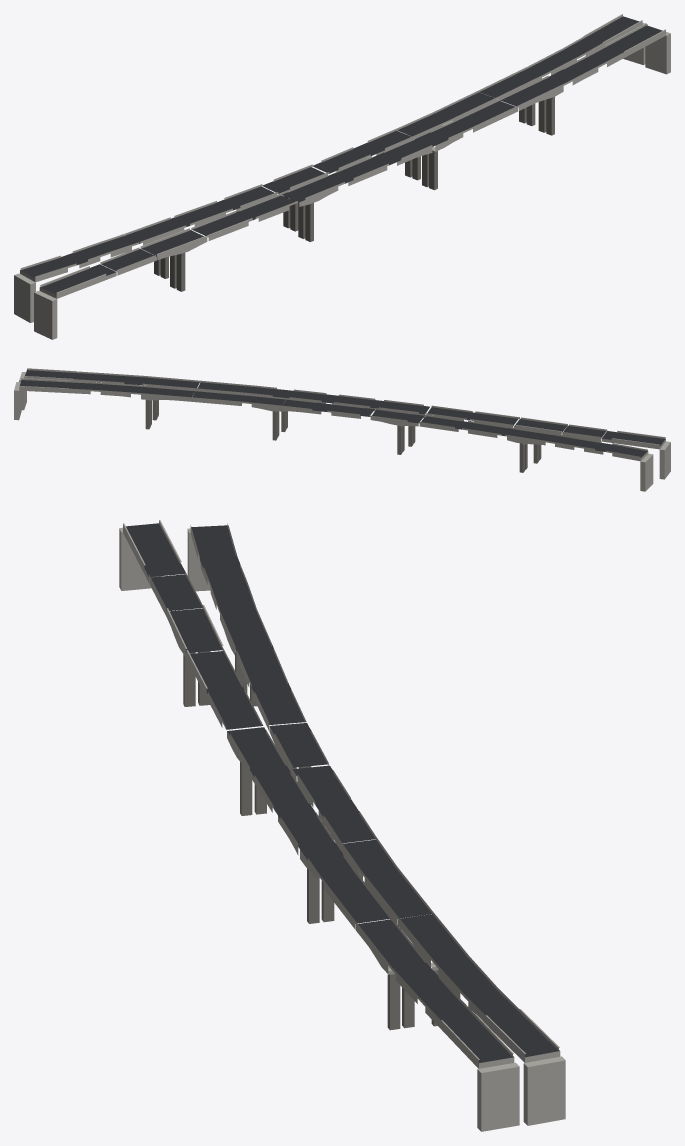
The model's file is br_r12_james_macdonald_lod2.gltf.
The picture shows the model from 3 angles, top to bottom: view 1: azimuth 30°, elevation 25°; view 2: azimuth 150°, elevation 25°; view 3: azimuth 270°, elevation 25°; orthographic projection. The views are drawn at different scales.
Parts seen in each view (by area): view 1: br_r12_james_macdonald_lod2; view 2: br_r12_james_macdonald_lod2; view 3: br_r12_james_macdonald_lod2.
Part boxes in pixels (<box>): br_r12_james_macdonald_lod2: <box>14,14,670,339</box>; br_r12_james_macdonald_lod2: <box>14,368,670,491</box>; br_r12_james_macdonald_lod2: <box>119,520,565,1131</box>.
Bounding box in the file's own units: 377 × 23.6 × 130.
